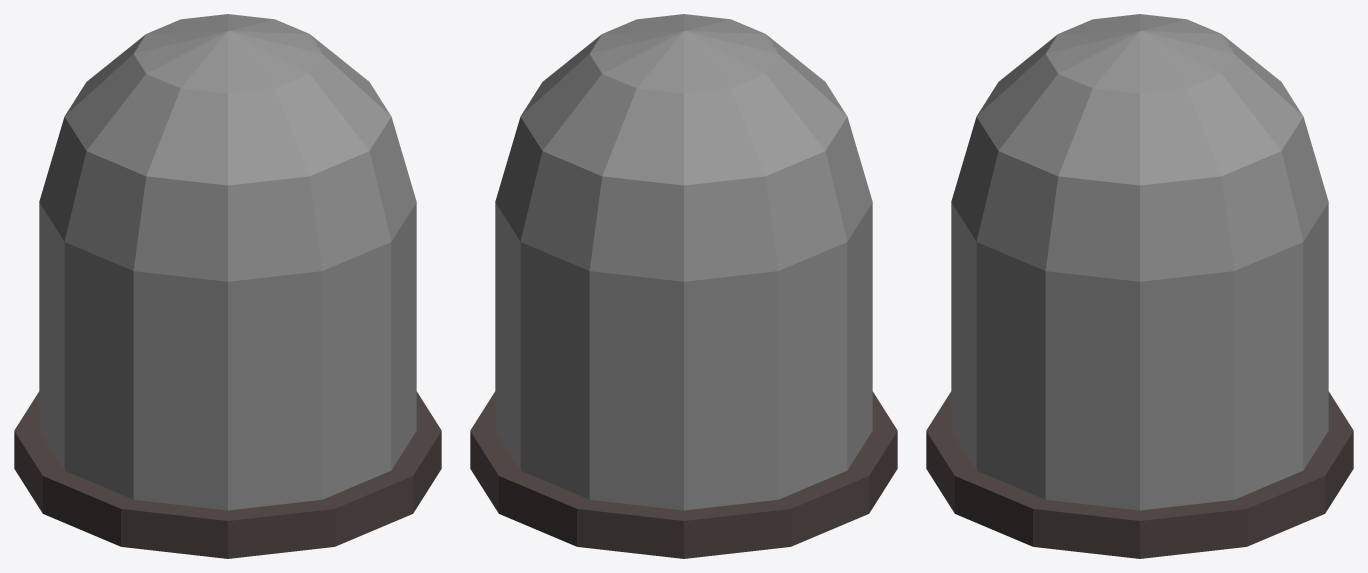
The model's file is glassTube.FBX.
3 renders of one model, left to right at view 1: azimuth 30°, elevation 25°; view 2: azimuth 150°, elevation 25°; view 3: azimuth 270°, elevation 25°, orthographic.
Parts seen in each view (by area): view 1: glassTube; view 2: glassTube; view 3: glassTube.
Boxes of the visible parts, <box> form: glassTube: <box>14,14,441,558</box>; glassTube: <box>470,14,897,558</box>; glassTube: <box>926,14,1353,558</box>.
Bounding box in the file's own units: 1.28 × 1.44 × 1.28.
